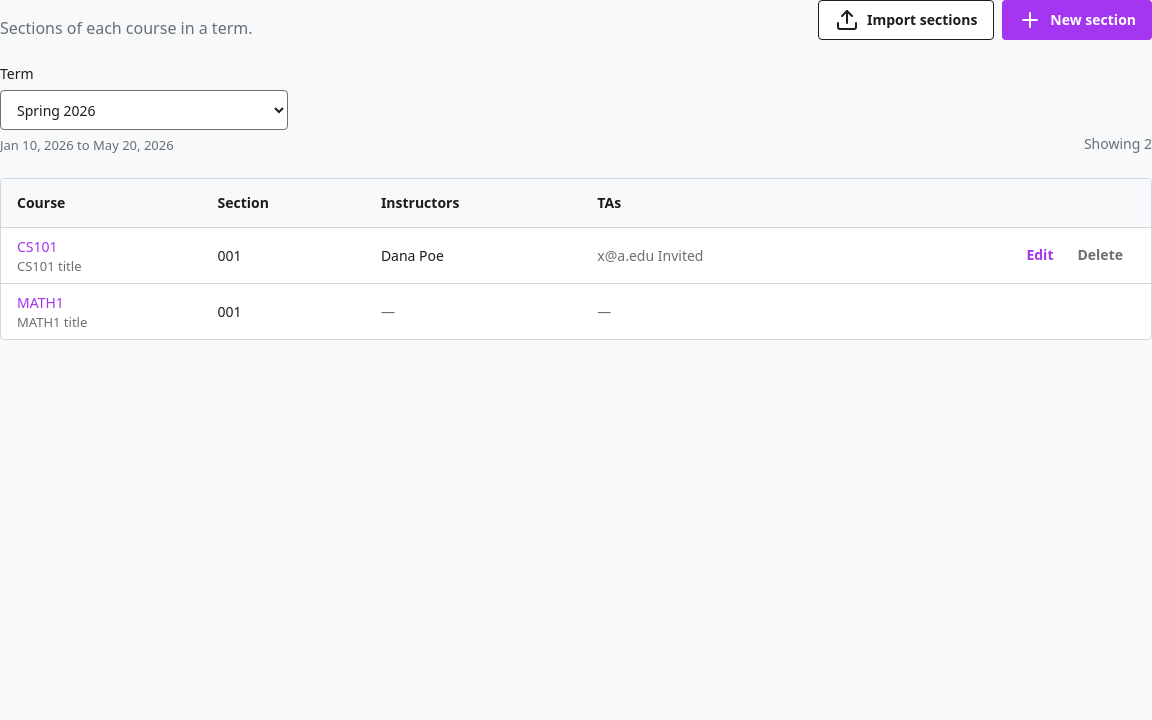
Scenario: Edit opens the section dialog in edit mode only for managed departments
The width and height of the screenshot is (1152, 720).
Expected: the link "CS101" is shown, [17,236,58,256]
Click the button with aria-label "Edit CS101 section 001" at (1040, 255), box [1014,239,1066,271]
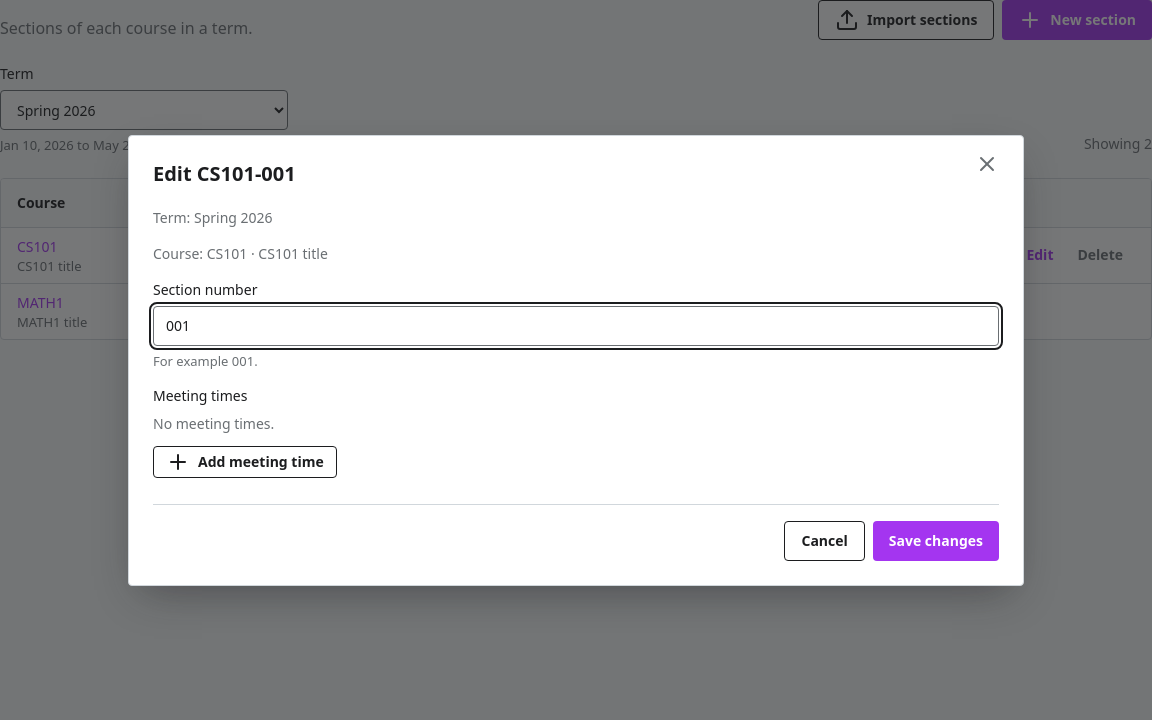
Result: the dialog "Edit CS101-001" is shown at [128,134,1024,586]
